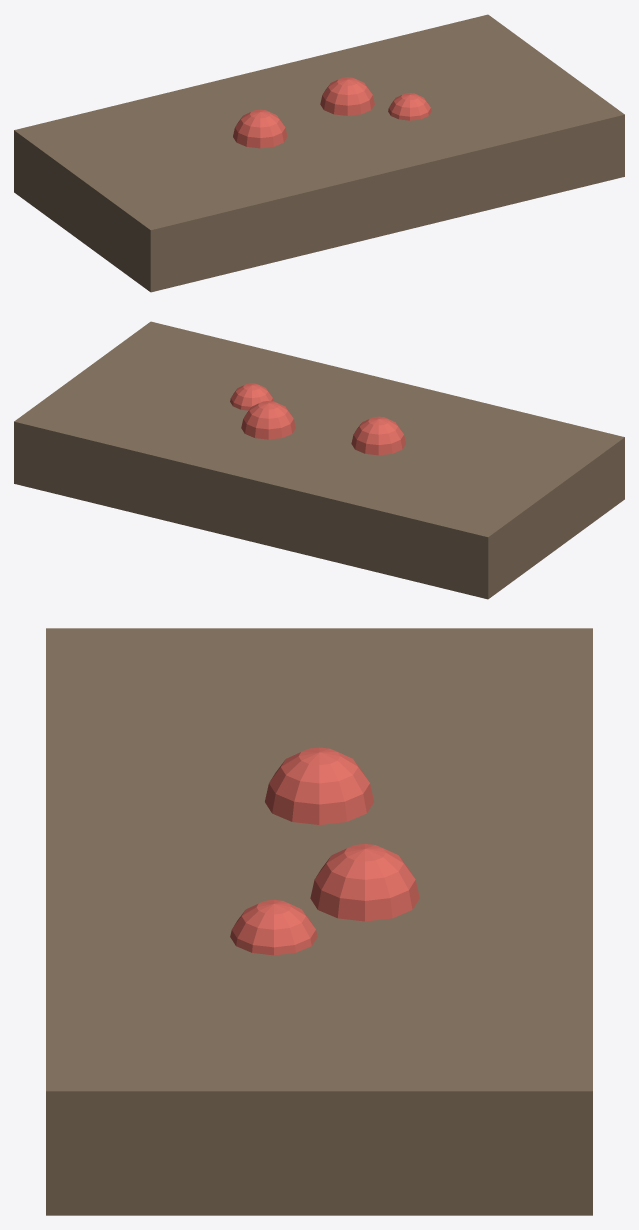
Rendered from planted_flowers.glb.
The picture shows the model from 3 angles, top to bottom: view 1: azimuth 30°, elevation 25°; view 2: azimuth 150°, elevation 25°; view 3: azimuth 270°, elevation 25°; orthographic projection. The views are drawn at different scales.
Parts seen in each view (by area): view 1: bed, f1, f2, f3; view 2: bed, f1, f2, f3; view 3: bed, f1, f2, f3.
Boxes of the visible parts, x1,y1,x2,y2 form: bed: (14, 14, 624, 292); f1: (233, 109, 287, 148); f2: (320, 77, 374, 115); f3: (388, 93, 431, 120); bed: (14, 321, 624, 599); f1: (351, 416, 405, 455); f2: (241, 401, 295, 439); f3: (230, 383, 273, 410); bed: (46, 628, 592, 1215); f1: (265, 747, 373, 824); f2: (310, 844, 419, 921); f3: (230, 899, 317, 955).
Size of the model in its own units: 2.4 by 0.4205 by 1.2.
